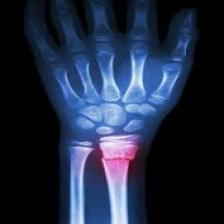impacted-fracture: (22, 1, 202, 224)
